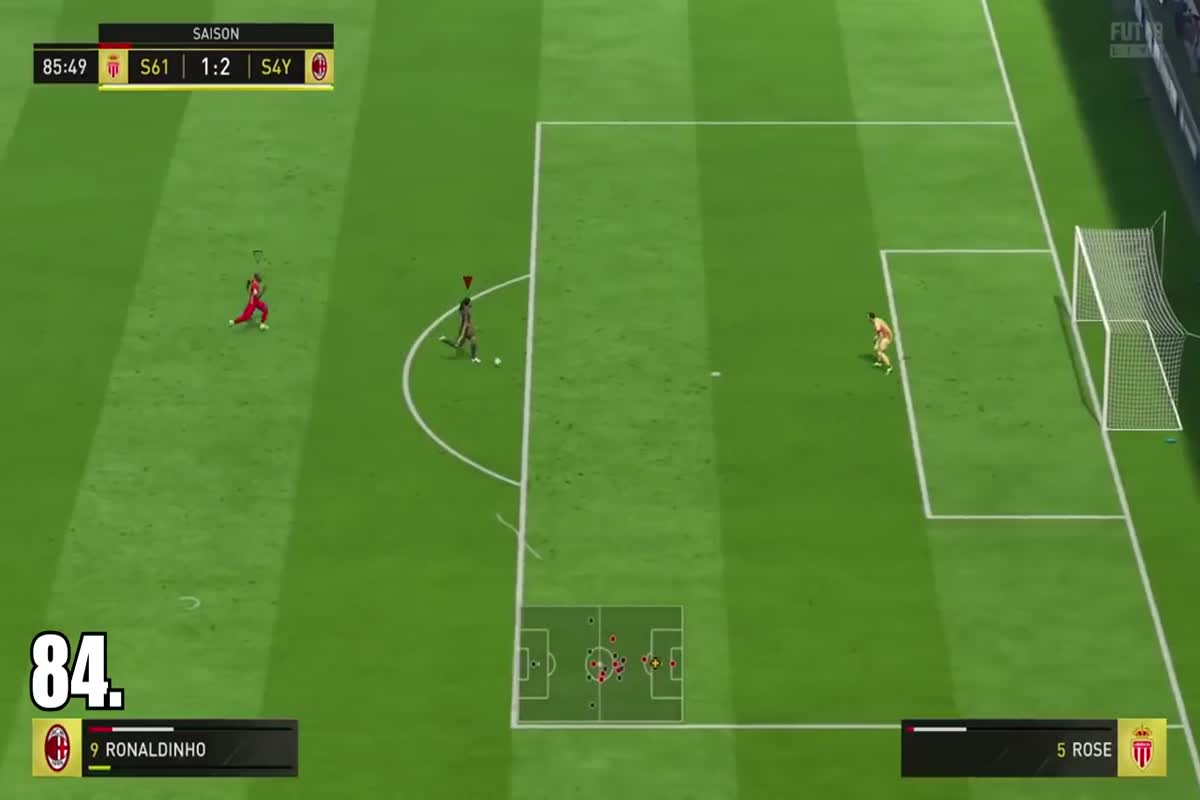ball: (487, 349, 512, 375)
